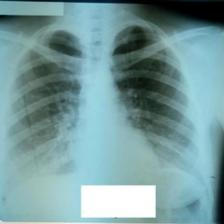tuberculosis: (1, 17, 213, 203)
